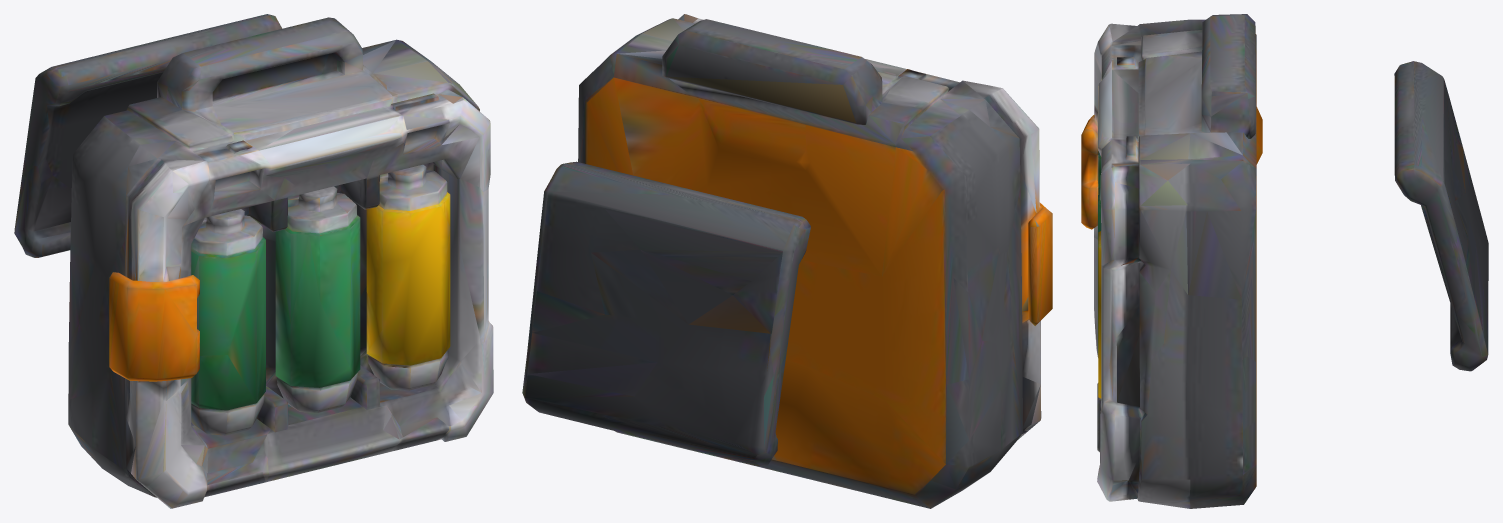
3 views of the same model, side by side, from view 1: azimuth 30°, elevation 25°; view 2: azimuth 150°, elevation 25°; view 3: azimuth 270°, elevation 25° (orthographic). The views are drawn at different scales.
Visible parts, largest first — view 1: node_0; view 2: node_0; view 3: node_0.
Part boxes in pixels (x1,y1,x2,y2): node_0: (14, 14, 493, 508); node_0: (522, 14, 1052, 508); node_0: (1081, 14, 1488, 508).
Bounding box in the file's own units: 1 × 0.991 × 0.9368.
1 material, 1 textured.
